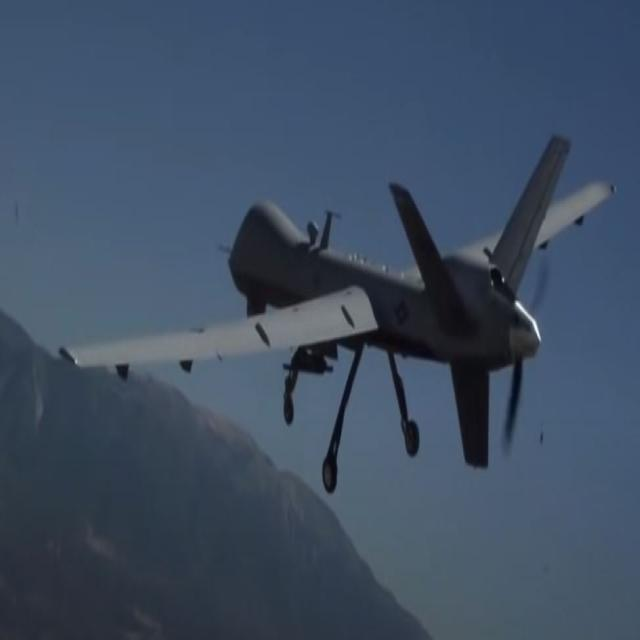iha: (58, 129, 618, 502)
